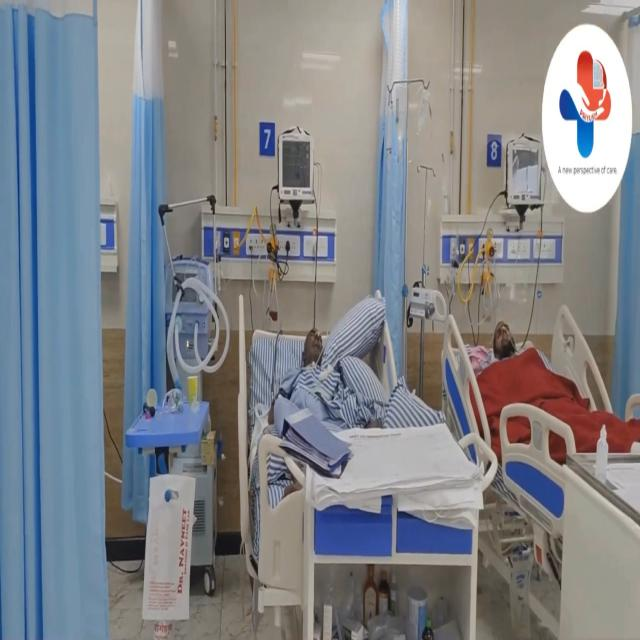Patient: (271, 287, 368, 401), (462, 307, 544, 400)
